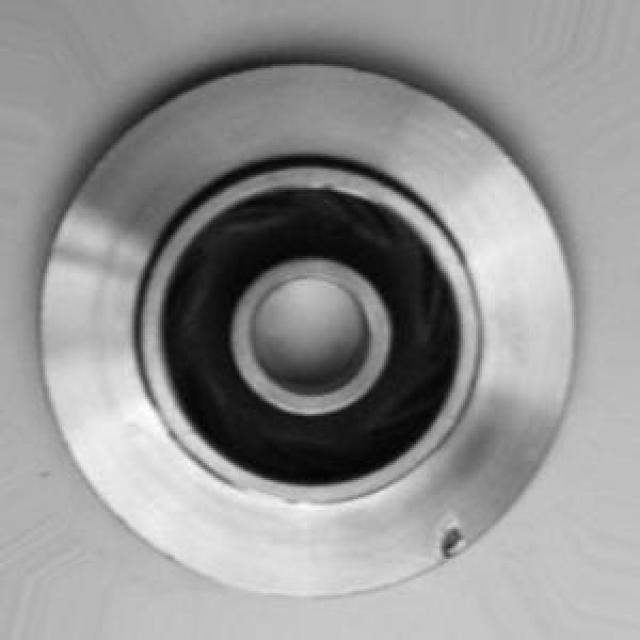Defect: (435, 516, 475, 569)
